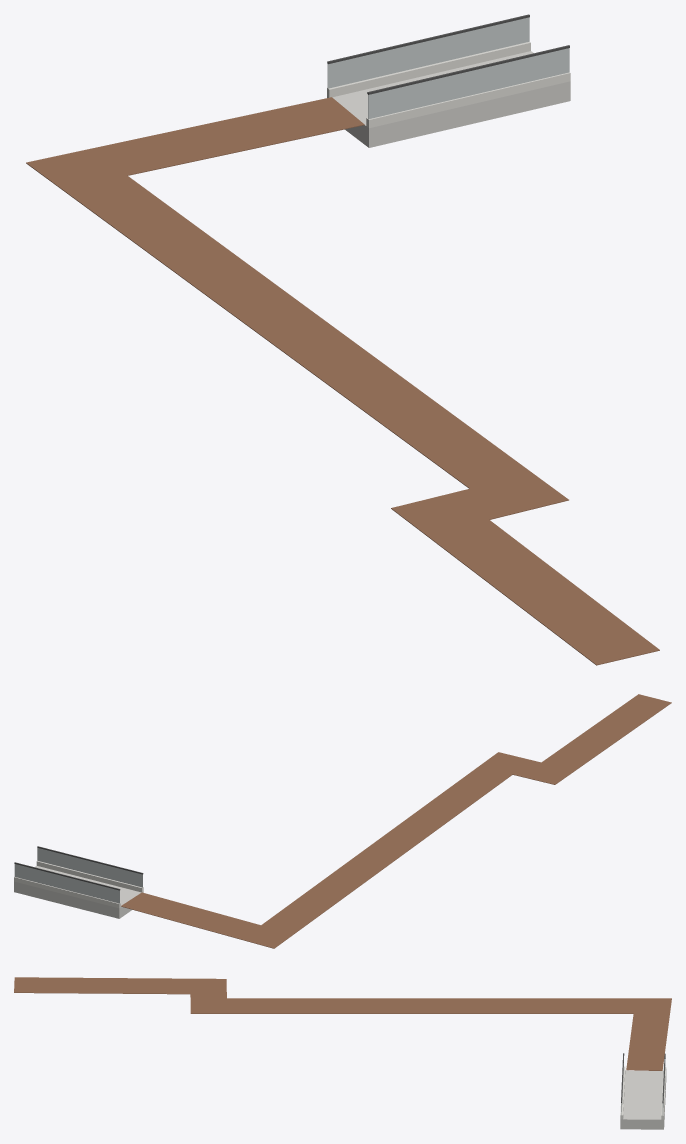
3 views of the same model, one above another, from view 1: azimuth 30°, elevation 25°; view 2: azimuth 150°, elevation 25°; view 3: azimuth 270°, elevation 25° (orthographic). The views are drawn at different scales.
Visible parts, largest first — view 1: bridgeCA__timber, bridgeCA__glass, bridgeCA__deck, bridgeCA__parapet, bridgeCA__rail; view 2: bridgeCA__timber, bridgeCA__glass, bridgeCA__deck, bridgeCA__parapet, bridgeCA__rail; view 3: bridgeCA__timber, bridgeCA__deck, bridgeCA__parapet.
Boxes of the visible parts, bbox=[...] form: bridgeCA__timber: bbox=[26, 97, 659, 665]; bridgeCA__glass: bbox=[327, 17, 569, 119]; bridgeCA__deck: bbox=[327, 51, 570, 147]; bridgeCA__parapet: bbox=[327, 41, 570, 128]; bridgeCA__rail: bbox=[327, 14, 569, 94]; bridgeCA__timber: bbox=[121, 694, 671, 948]; bridgeCA__glass: bbox=[14, 848, 142, 903]; bridgeCA__deck: bbox=[14, 865, 143, 918]; bridgeCA__parapet: bbox=[14, 861, 143, 908]; bridgeCA__rail: bbox=[14, 846, 143, 890]; bridgeCA__timber: bbox=[14, 977, 671, 1070]; bridgeCA__deck: bbox=[620, 1070, 666, 1129]; bridgeCA__parapet: bbox=[620, 1066, 666, 1119].
Size of the model in its own units: 18.45 by 1.66 by 36.17.
